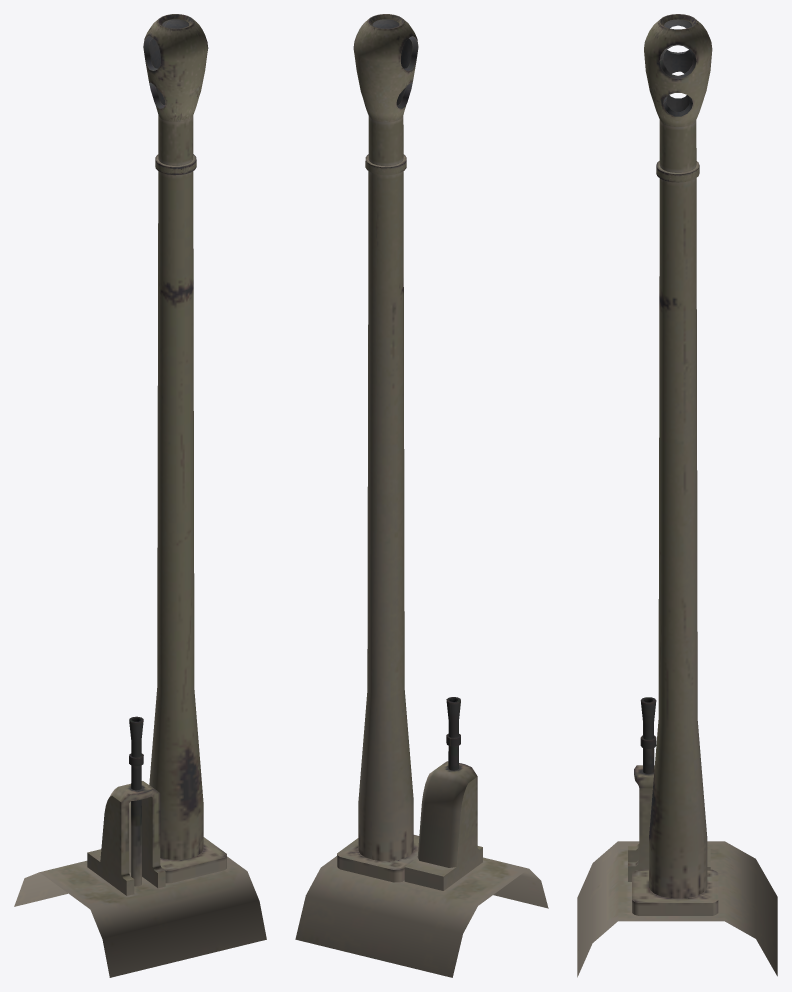
File: Gun_04.glb
3 renders of one model, left to right at view 1: azimuth 30°, elevation 25°; view 2: azimuth 150°, elevation 25°; view 3: azimuth 270°, elevation 25°, orthographic. The views are drawn at different scales.
Visible parts, largest first — view 1: set_0_group_0; view 2: set_0_group_0; view 3: set_0_group_0.
Part boxes in pixels (x1,y1,x2,y2): set_0_group_0: (14, 14, 266, 977); set_0_group_0: (295, 14, 548, 977); set_0_group_0: (577, 14, 777, 977).
Bounding box in the file's own units: 0.5352 × 2.91 × 0.5654.
1 material, 1 textured.
